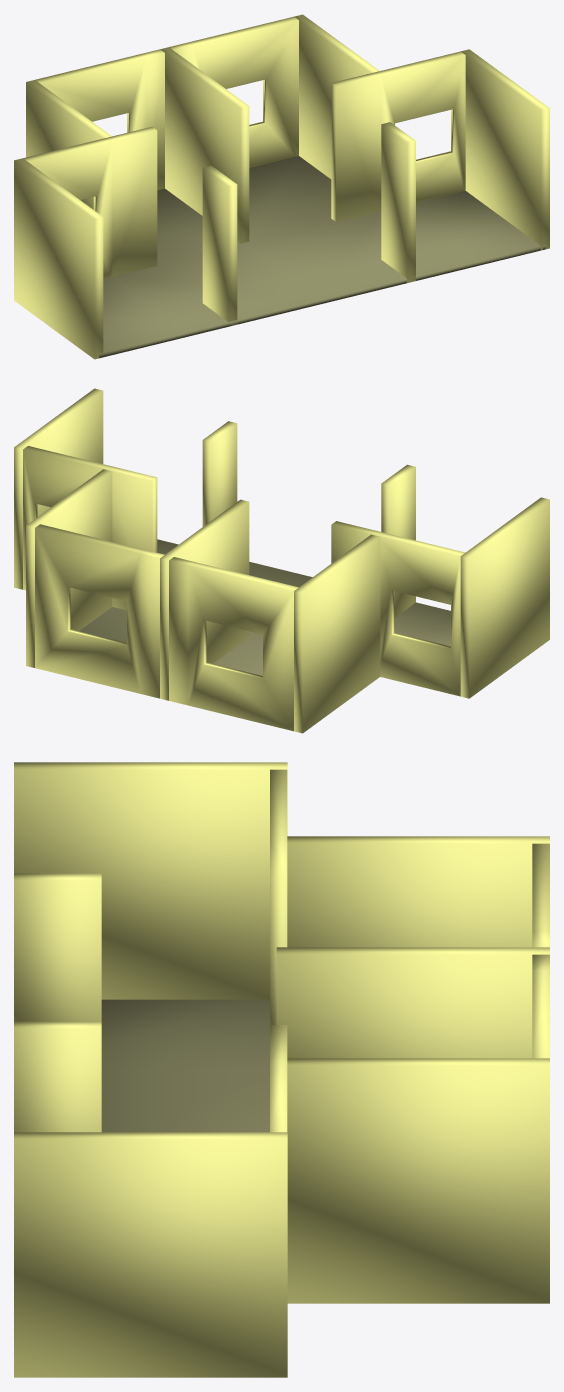
The model's file is room.glb.
The picture shows the model from 3 angles, top to bottom: view 1: azimuth 30°, elevation 25°; view 2: azimuth 150°, elevation 25°; view 3: azimuth 270°, elevation 25°; orthographic projection. The views are drawn at different scales.
Visible parts, largest first — view 1: Wall-col, Floor-col; view 2: Wall-col, Floor-col; view 3: Wall-col, Floor-col.
Part boxes in pixels (x1,y1,x2,y2): Wall-col: (14,14,549,359); Floor-col: (99,156,545,358); Wall-col: (14,388,549,733); Floor-col: (79,539,450,675); Wall-col: (14,762,549,1377); Floor-col: (101,999,269,1132).
Bounding box in the file's own units: 10.2 × 3 × 6.12.
Materials: 1 (1 with a texture image).
